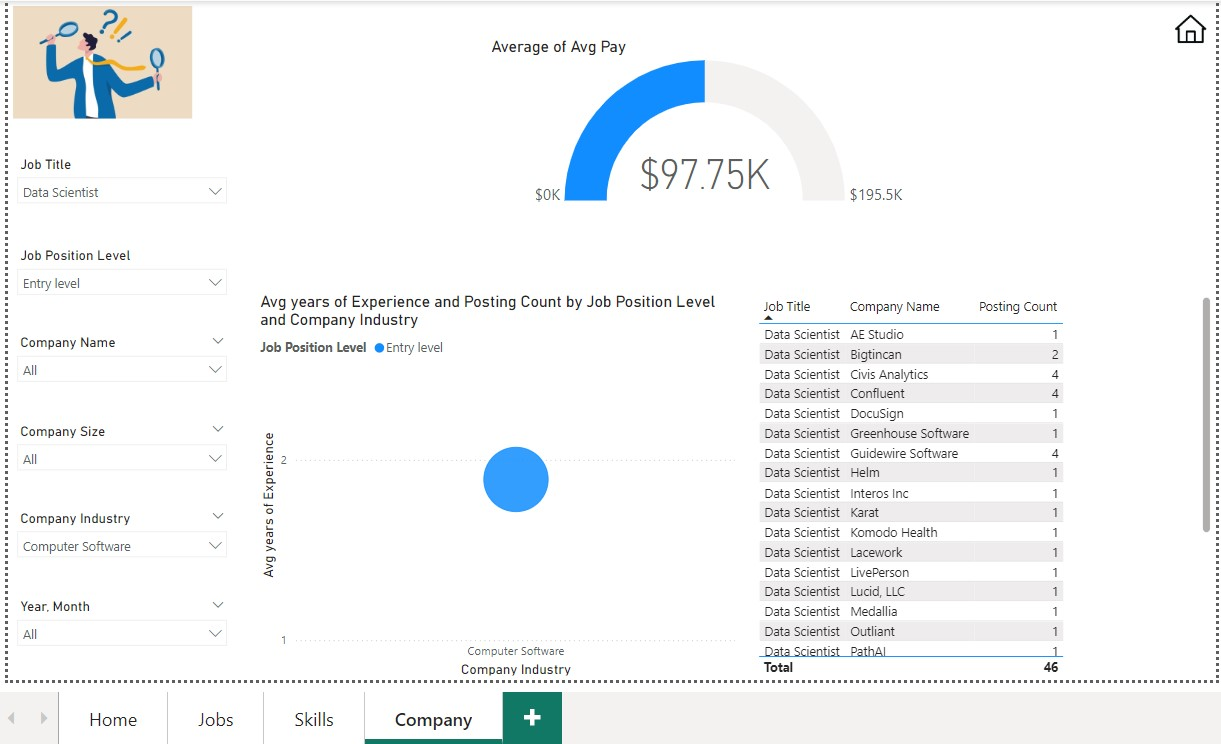

The dashboard page shown, as its layout file describes it:
{"tool":"powerbi","page":{"name":"Company","canvas":[1280,720],"ordinal":3},"visuals":[{"type":"image","box":[0,0,200.4,130.4],"z":0},{"type":"scatterChart","fields":{"Y":["Measure Table.Avg years of Experience"],"X":["Job Postings.Company Industry"],"Series":["Job Postings.Job Position Level"],"Size":["Measure Table.Posting Count"]},"box":[262.5,308.6,513.8,412],"z":1000},{"type":"tableEx","fields":{"Values":["Job Postings.Job Title","Job Postings.Company Name","Measure Table.Posting Count"]},"box":[790.5,308.6,489.9,412],"z":2000},{"type":"gauge","fields":{"Y":["Measure Table.Average of Avg Pay"]},"box":[507.4,38.2,491.5,182.9],"z":3000},{"type":"slicer","fields":{"Values":["Job Postings.Job Title"]},"box":[0,159.1,241.8,82.7],"z":4000},{"type":"slicer","fields":{"Values":["Job Postings.Job Position Level"]},"box":[0.5,255.5,241.8,79.5],"z":5000},{"type":"slicer","fields":{"Values":["Job Postings.Company Name"]},"box":[0.5,348.7,241.8,79.5],"z":6000},{"type":"slicer","fields":{"Values":["Job Postings.Company Size"]},"box":[0.5,441.9,241.8,79.5],"z":7000},{"type":"slicer","fields":{"Values":["Job Postings.Company Industry"]},"box":[0.5,535.1,241.8,79.5],"z":8000},{"type":"slicer","fields":{"Values":["Job Postings.Job Posting Date.Variation.Date Hierarchy.Year","Job Postings.Job Posting Date.Variation.Date Hierarchy.Month"]},"box":[0.5,628.3,241.8,79.5],"z":9000},{"type":"image","box":[1226.4,0,54.1,58.9],"z":9001}]}

Visuals, with their boxes on the page's 1280x720 design canvas (x1, y1, x2, y2). These are canvas units, not pixel positions in the 1221x744 screenshot, which may show the page scaled, cropped or inside an application window:
image: bbox=(0, 0, 200, 130)
scatterChart - Measure Table.Avg years of Experience x Job Postings.Company Industry: bbox=(262, 309, 776, 721)
tableEx - Job Postings.Job Title x Job Postings.Company Name: bbox=(790, 309, 1280, 721)
gauge - Measure Table.Average of Avg Pay: bbox=(507, 38, 999, 221)
slicer - Job Postings.Job Title: bbox=(0, 159, 242, 242)
slicer - Job Postings.Job Position Level: bbox=(0, 256, 242, 335)
slicer - Job Postings.Company Name: bbox=(0, 349, 242, 428)
slicer - Job Postings.Company Size: bbox=(0, 442, 242, 521)
slicer - Job Postings.Company Industry: bbox=(0, 535, 242, 615)
slicer - Job Postings.Job Posting Date.Variation.Date Hierarchy.Year x Job Postings.Job Posting Date.Variation.Date Hierarchy.Month: bbox=(0, 628, 242, 708)
image: bbox=(1226, 0, 1280, 59)
